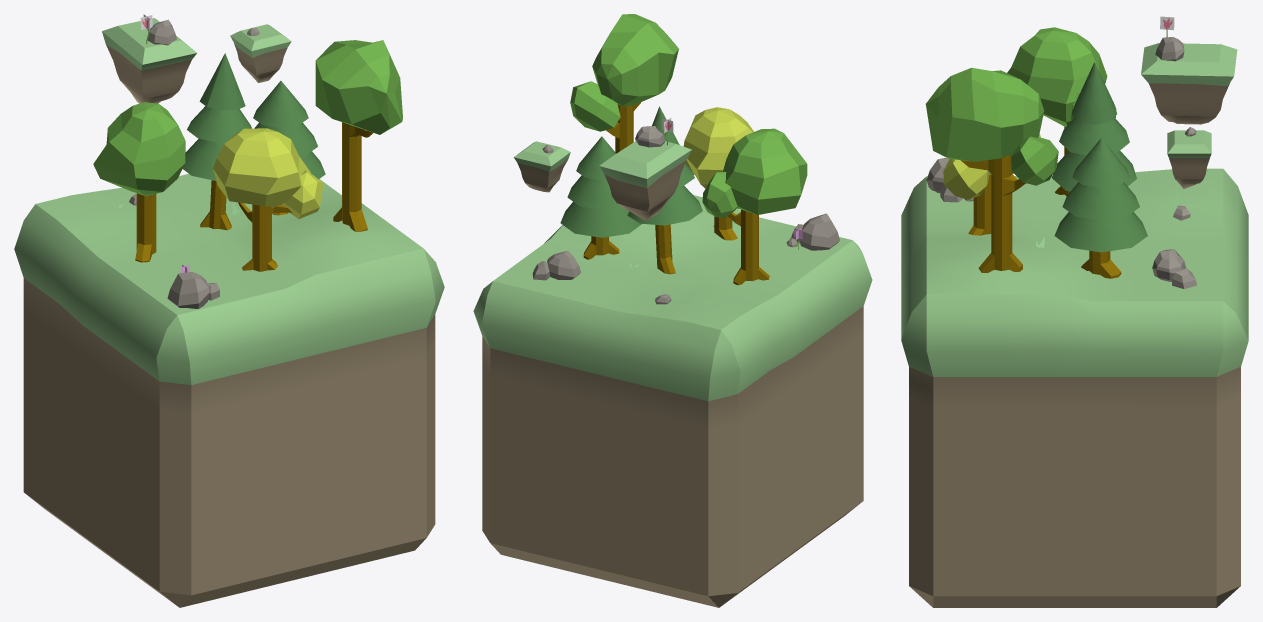
Rendered from boom_pine_1.fbx.
3 views of the same model, side by side, from view 1: azimuth 30°, elevation 25°; view 2: azimuth 150°, elevation 25°; view 3: azimuth 270°, elevation 25° (orthographic). The views are drawn at different scales.
Visible parts, largest first — view 1: pCube1, boombos_2, boombos_1, boombos, pCube2_1, boomstam_2, pCube2, boomstam, Cone_1, Cone_2_2, Cone_2, boomstam_1_3 (+5 smaller); view 2: pCube1, boombos_2, boombos_1, pCube2_1, boombos, Cone_2_3, pCube2, boombos_klein_2, boomstam_1_3, Cone, Cone_1_2, boombos_klein (+6 smaller); view 3: pCube1, boombos_2, pCube2_1, boombos_1, boomstam_2, Cone_2_3, Cone_1_2, pCube2, boombos_klein_2, Cone_1, Cone_2_2, Cone_2 (+7 smaller).
Part boxes in pixels (x1,y1,x2,y2): pCube1: (14,173,444,607); boombos_2: (315,40,402,134); boombos_1: (93,102,185,196); boombos: (213,128,310,207); pCube2_1: (102,18,196,103); boomstam_2: (333,122,372,231); pCube2: (230,24,291,82); boomstam: (238,202,292,271); Cone_1: (187,106,251,143); Cone_2_2: (253,81,308,127); Cone_2: (199,53,245,110); boomstam_1_3: (135,193,156,262); pCube1: (473,195,872,607); boombos_2: (592,14,678,106); boombos_1: (723,128,807,214); pCube2_1: (599,141,691,221); boombos: (683,107,753,188); Cone_2_3: (560,202,642,237); pCube2: (513,141,570,192); boombos_klein_2: (570,81,620,131); boomstam_1_3: (728,209,769,285); Cone: (627,186,702,225); Cone_1_2: (567,175,620,209); boombos_klein: (702,172,737,217); pCube1: (901,168,1248,607); boombos_2: (925,67,1044,161); pCube2_1: (1141,43,1237,124); boombos_1: (1007,27,1107,126); boomstam_2: (961,154,1025,272); Cone_2_3: (1054,212,1147,252); Cone_1_2: (1062,182,1139,220); pCube2: (1167,130,1211,188); boombos_klein_2: (1011,136,1058,185); Cone_1: (1059,117,1129,155); Cone_2_2: (1072,138,1130,187); Cone_2: (1071,62,1116,125).
Bounding box in the file's own units: 174 × 288 × 174.
10 materials, 1 textured.
